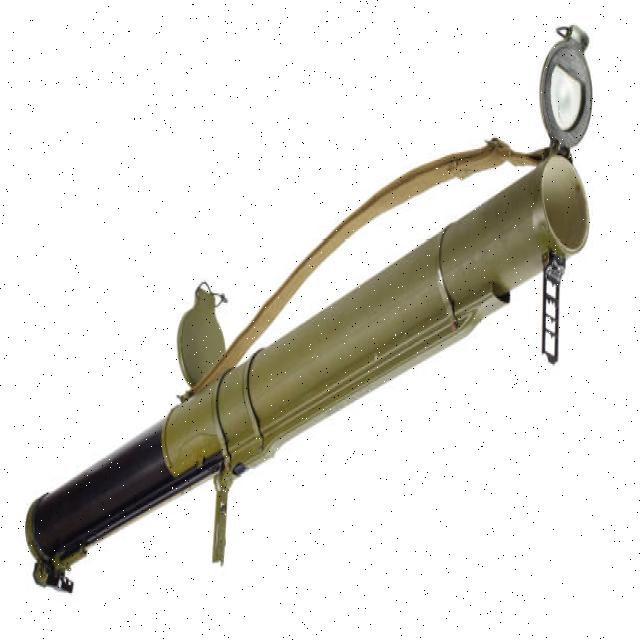bazooka: (18, 19, 605, 605)
